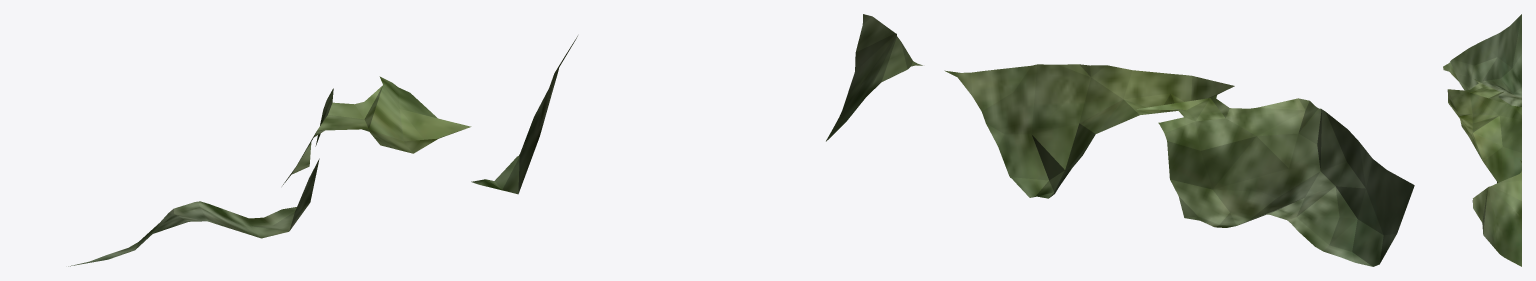
3 views of the same model, side by side, from view 1: azimuth 30°, elevation 25°; view 2: azimuth 150°, elevation 25°; view 3: azimuth 270°, elevation 25° (orthographic). The views are drawn at different scales.
Size of the model in its own units: 2.49 by 0.4411 by 0.4442.
1 material, 1 textured.
